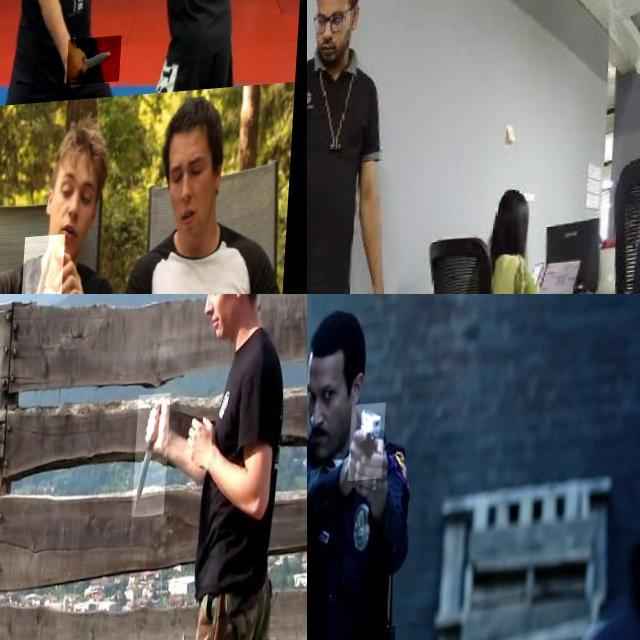-: (136, 398, 174, 522), (0, 199, 28, 294), (70, 44, 125, 92), (25, 241, 71, 294), (0, 19, 27, 65)
gun-knife-thesis - v11 Yolov5 augmented: (350, 406, 388, 484)
